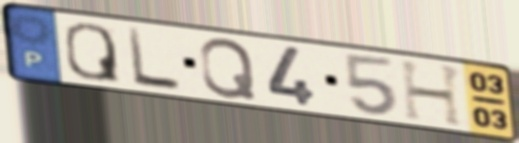4: (264, 44, 323, 110)
5: (340, 53, 401, 119)
H: (396, 58, 468, 129)
L: (124, 25, 185, 94)
Q: (197, 36, 259, 101), (62, 21, 124, 85)
